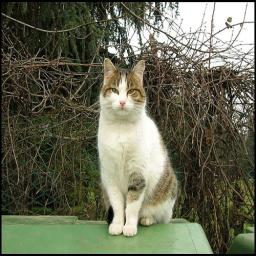catnose: (118, 99, 127, 107)
